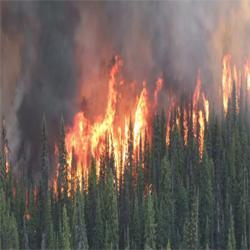fire: (66, 116, 122, 174), (105, 69, 156, 116)
